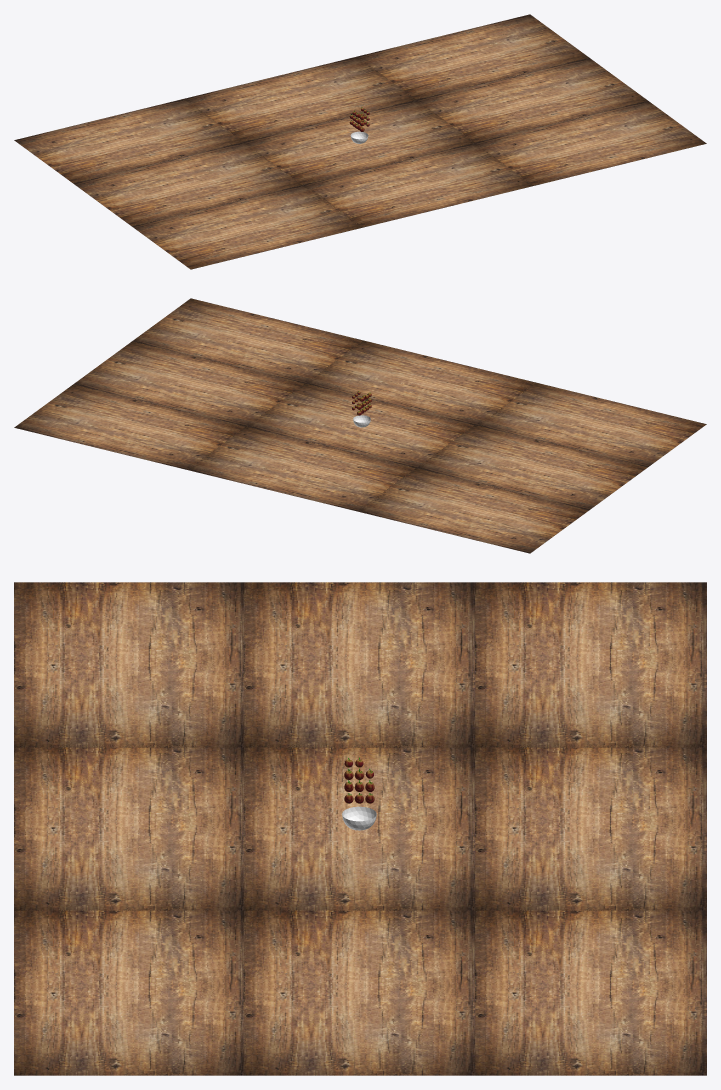
Rendered from apple1.glb.
3 views of the same model, one above another, from view 1: azimuth 30°, elevation 25°; view 2: azimuth 150°, elevation 25°; view 3: azimuth 270°, elevation 25° (orthographic). The views are drawn at different scales.
Visible parts, largest first — view 1: Plane.049, Plane.048, Plane.046, Plane.041, Plane.047, Plane.045, Plane.042, Plane.044, Plane.030; view 2: Plane.044, Plane.048, Plane.045, Plane.047, Plane.042, Plane.049, Plane.041, Plane.046, Plane.030; view 3: Plane.047, Plane.044, Plane.045, Plane.048, Plane.046, Plane.049, Plane.041, Plane.042, Plane.030.
Part boxes in pixels (box(x1,y1,x2,y2)): Plane.049: box(475, 100, 706, 185); Plane.048: box(357, 14, 588, 99); Plane.046: box(132, 184, 363, 269); Plane.041: box(185, 56, 415, 141); Plane.047: box(417, 57, 647, 142); Plane.045: box(14, 98, 242, 183); Plane.042: box(305, 142, 533, 227); Plane.044: box(73, 142, 301, 226); Plane.030: box(244, 99, 474, 185); Plane.044: box(416, 425, 647, 510); Plane.048: box(14, 384, 245, 469); Plane.045: box(357, 468, 588, 553); Plane.047: box(73, 341, 304, 426); Plane.042: box(305, 340, 536, 425); Plane.049: box(132, 298, 363, 383); Plane.041: box(187, 426, 415, 511); Plane.046: box(478, 382, 706, 466); Plane.030: box(247, 383, 473, 468); Plane.047: box(243, 910, 475, 1075); Plane.044: box(243, 582, 475, 747); Plane.045: box(475, 582, 706, 747); Plane.048: box(475, 910, 706, 1075); Plane.046: box(14, 582, 245, 747); Plane.049: box(14, 910, 245, 1075); Plane.041: box(475, 745, 706, 910); Plane.042: box(14, 745, 245, 910); Plane.030: box(243, 745, 475, 910).
Size of the model in its own units: 439 by 26.96 by 261.
5 materials, 2 textured.
